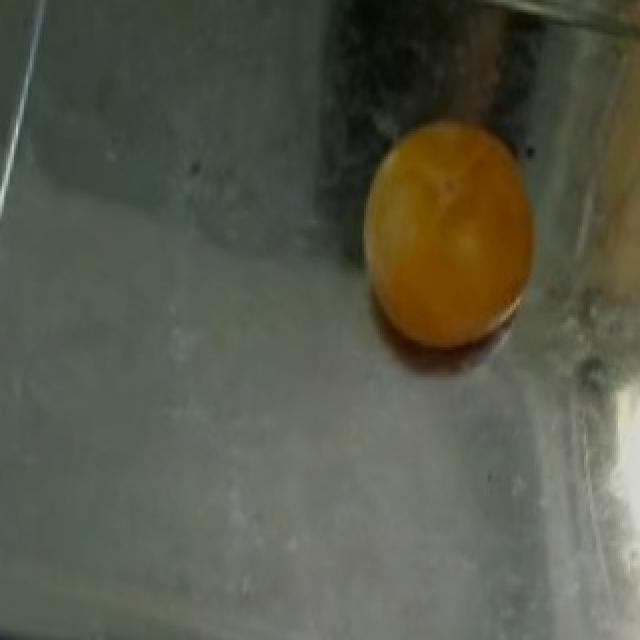Fruit: (332, 106, 568, 374)
